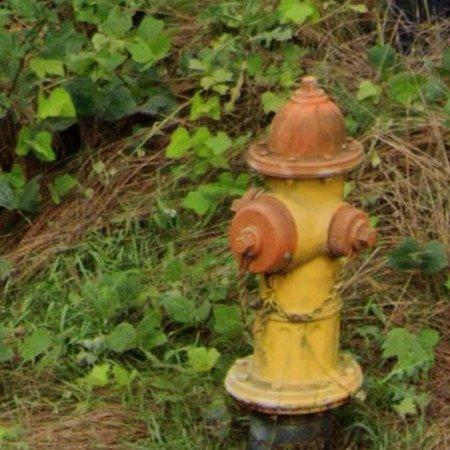a fire hydrant: (226, 77, 377, 416)
